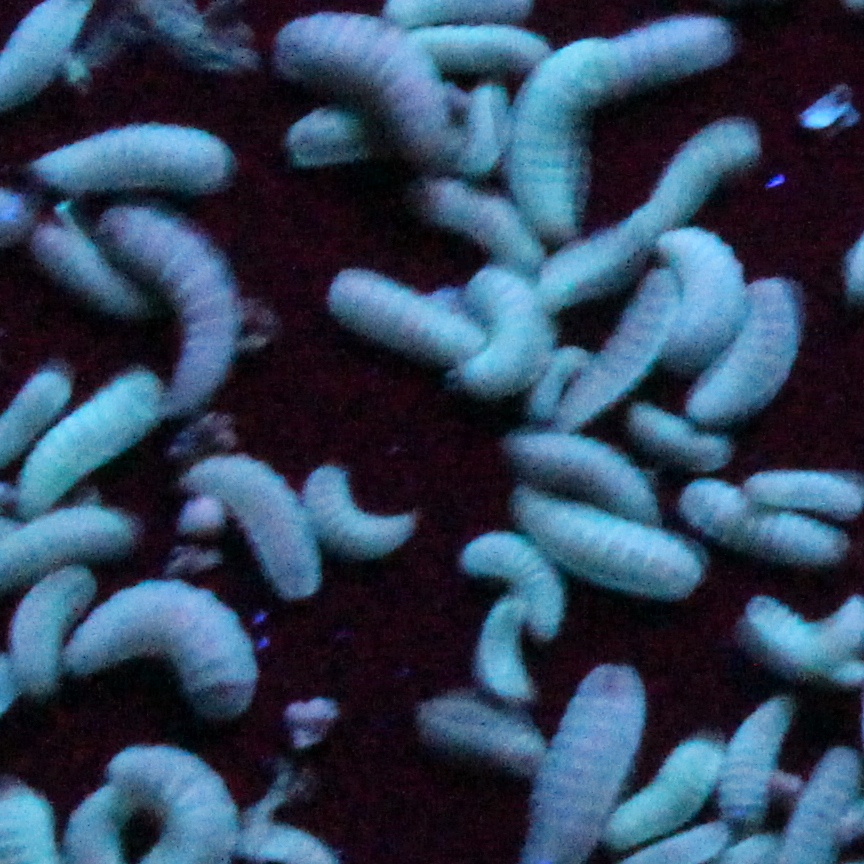larve: (83, 581, 248, 710), (535, 667, 639, 856), (114, 212, 216, 389), (285, 19, 432, 133), (30, 375, 149, 514), (563, 272, 670, 421), (544, 495, 697, 596), (642, 117, 767, 233), (525, 35, 597, 233), (200, 461, 316, 582), (700, 282, 799, 405), (509, 433, 644, 510), (339, 270, 458, 354), (621, 740, 718, 837), (690, 484, 839, 547), (463, 523, 562, 617), (32, 216, 130, 309), (667, 233, 732, 365), (307, 460, 402, 549), (427, 689, 534, 767), (48, 135, 225, 182), (606, 16, 732, 81), (430, 181, 527, 261), (18, 565, 70, 696), (474, 277, 541, 377), (795, 751, 853, 863), (728, 698, 779, 821), (479, 600, 542, 698), (556, 224, 637, 295), (428, 21, 551, 67), (635, 412, 727, 468), (292, 102, 376, 163), (455, 88, 506, 168), (539, 347, 576, 410)
